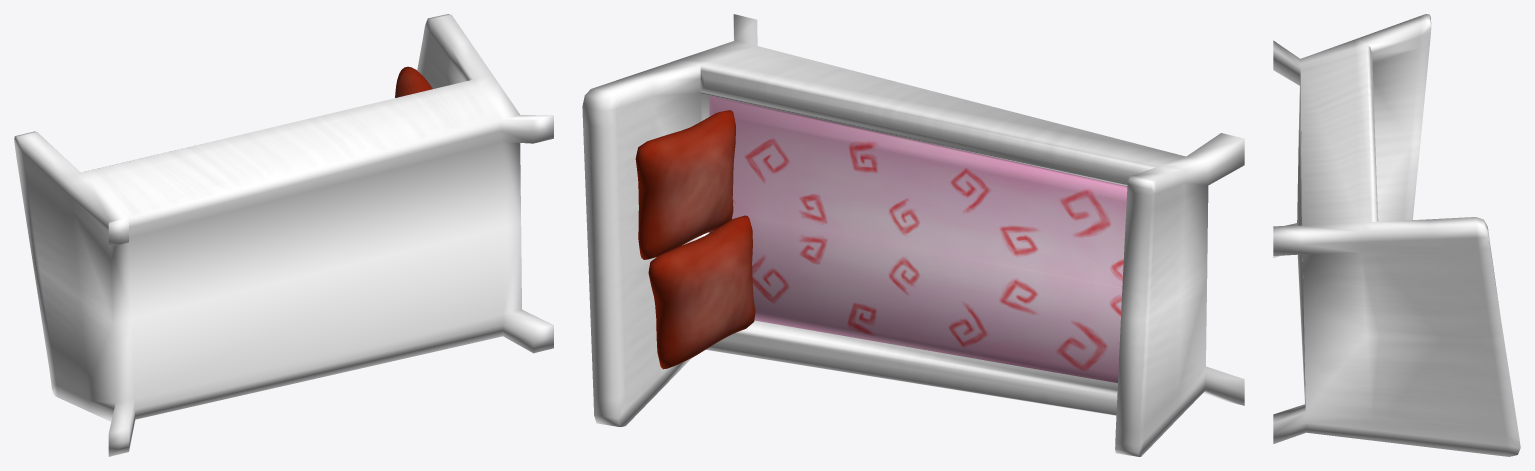
File: bed.fbx
3 renders of one model, left to right at view 1: azimuth 30°, elevation 25°; view 2: azimuth 150°, elevation 25°; view 3: azimuth 270°, elevation 25°, orthographic. The views are drawn at different scales.
Visible parts, largest first — view 1: Cube, pillow; view 2: Cube, pillow.001, pillow; view 3: Cube.
Part boxes in pixels (x1,y1,x2,y2): Cube: (14, 14, 553, 456); pillow: (395, 66, 432, 97); Cube: (582, 14, 1244, 456); pillow.001: (648, 215, 755, 369); pillow: (635, 110, 735, 259); Cube: (1273, 14, 1520, 456).
Bounding box in the file's own units: 834 × 483 × 429.
